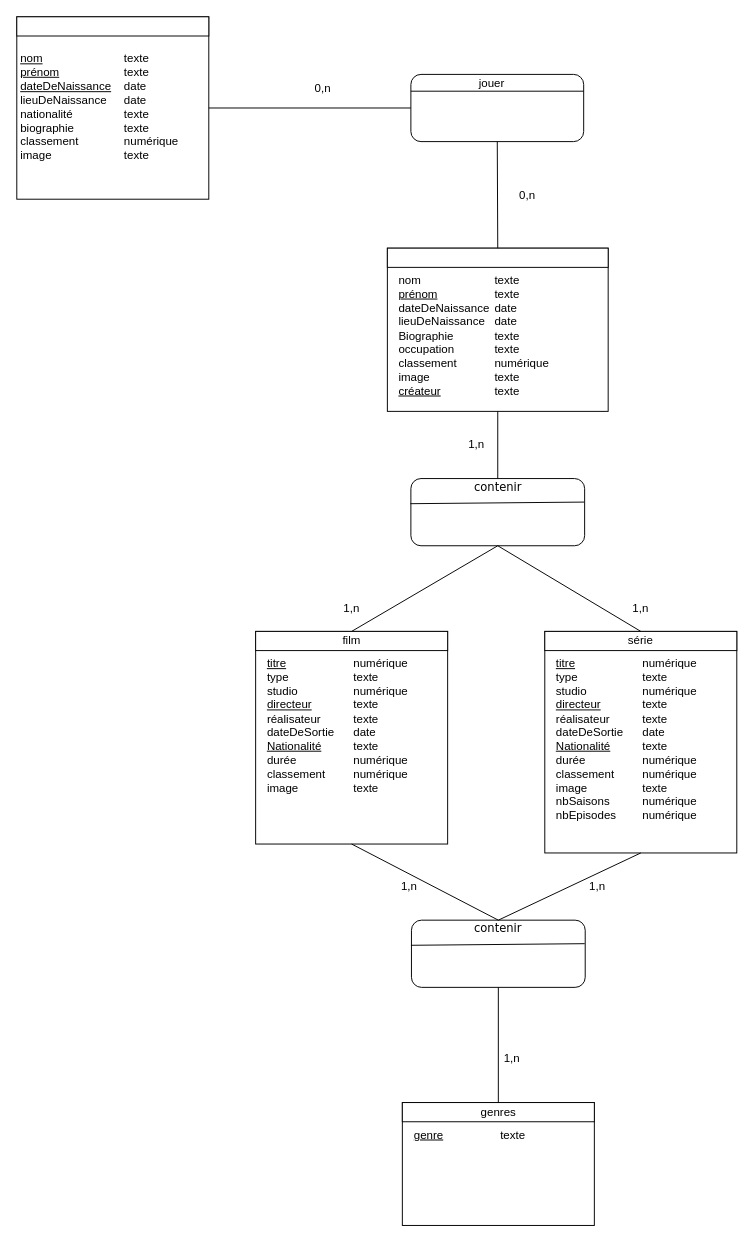
Image size: 754x1242. Some labels were removed from this diagram. Each missing label, with the centre of its shape:
acteurs: the point at 112,26
personnages: the point at 497,257
